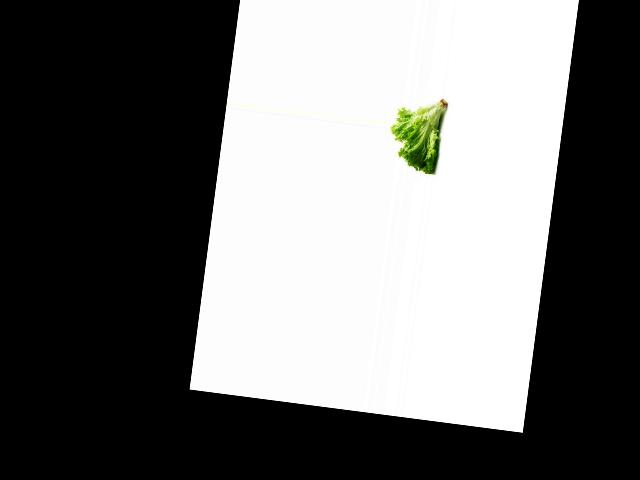lettuce: (385, 91, 449, 175)
